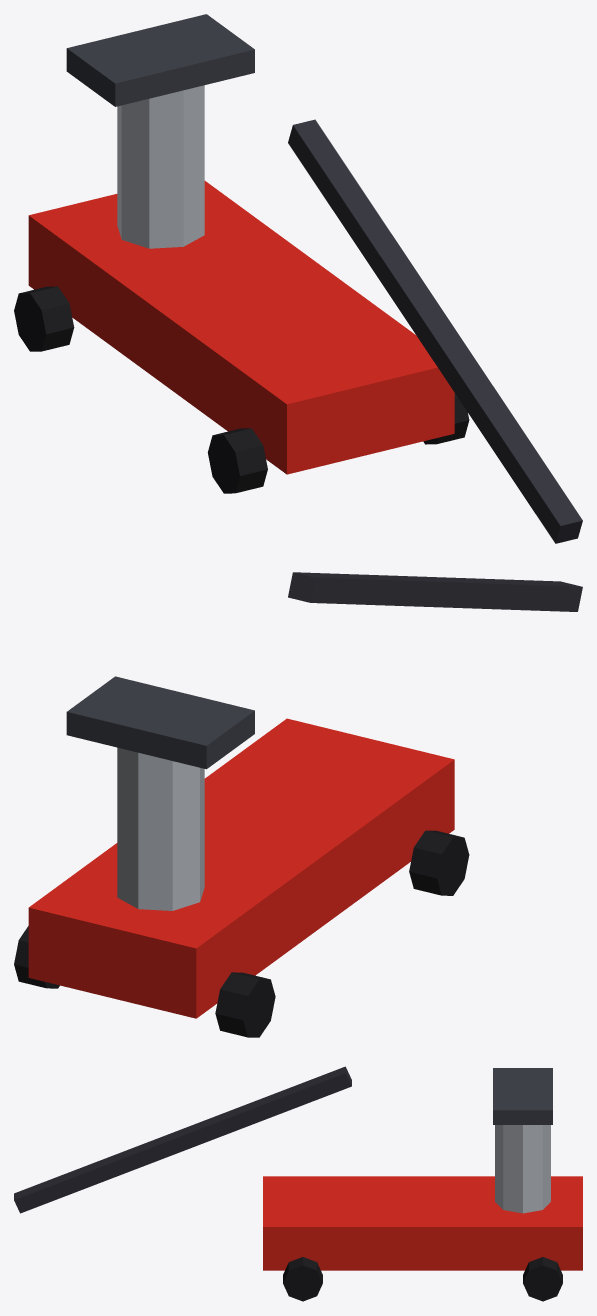
The model's file is garage_floor_jack.glb.
The picture shows the model from 3 angles, top to bottom: view 1: azimuth 30°, elevation 25°; view 2: azimuth 150°, elevation 25°; view 3: azimuth 270°, elevation 25°; orthographic projection. The views are drawn at different scales.
Visible parts, largest first — view 1: floor_jack; view 2: floor_jack; view 3: floor_jack.
Part boxes in pixels (box(x1,y1,x2,y2)): floor_jack: box(14, 14, 582, 543); floor_jack: box(14, 572, 582, 1037); floor_jack: box(14, 1066, 582, 1301).
Bounding box in the file's own units: 0.41 × 0.5437 × 1.42.
